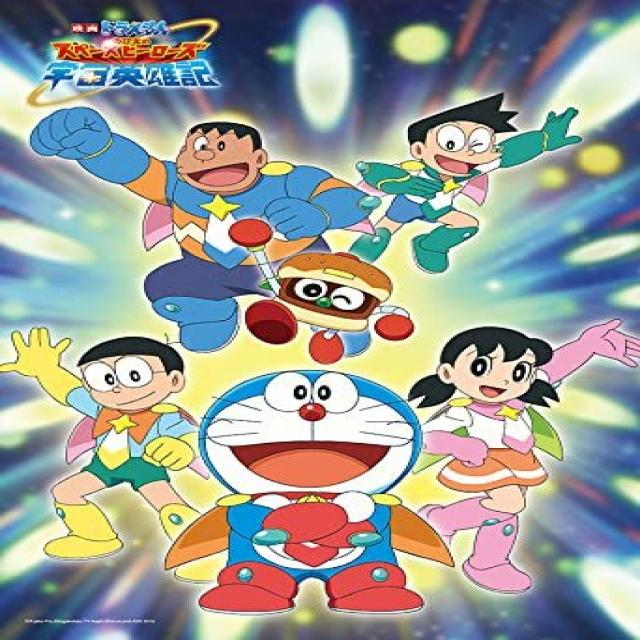doraemon: (189, 368, 430, 510)
jaian: (166, 116, 268, 194)
nobita: (68, 333, 188, 416)
shizuka: (402, 325, 569, 415)
suneo: (397, 84, 526, 184)
